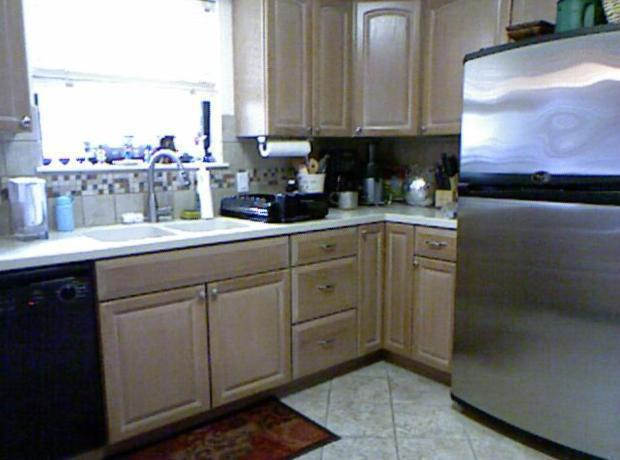Lavaplatos: (75, 136, 252, 266)
